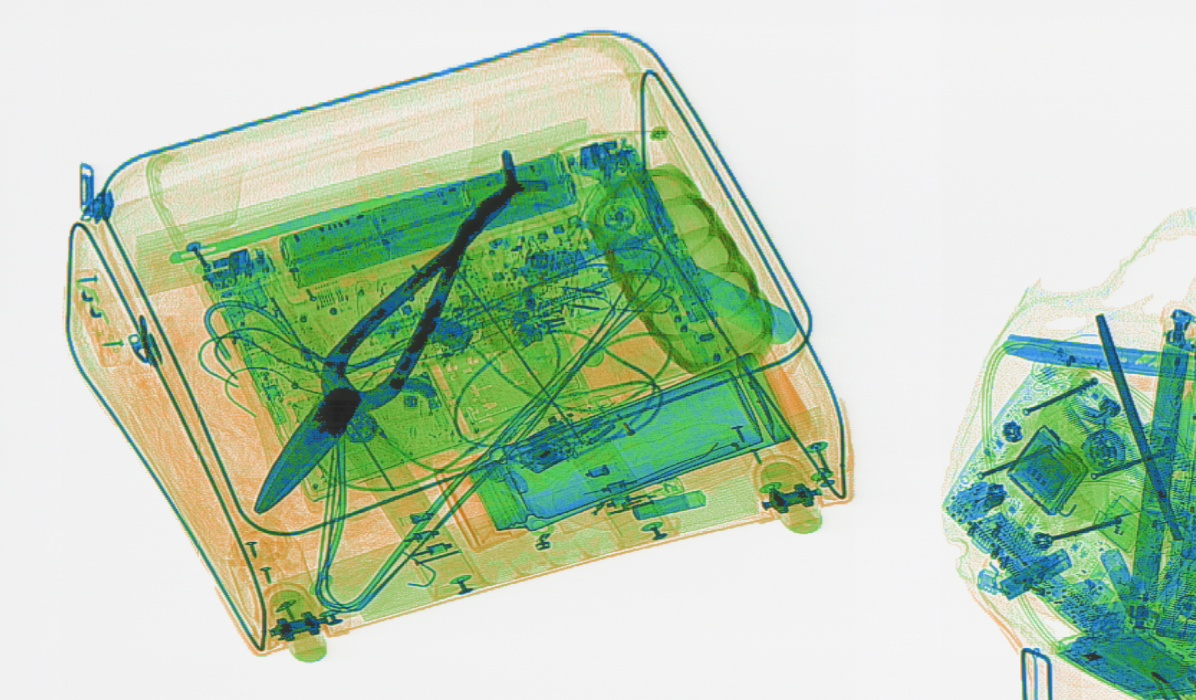knife: (461, 160, 798, 345), (1000, 333, 1195, 379)
scissors: (248, 148, 547, 513)
